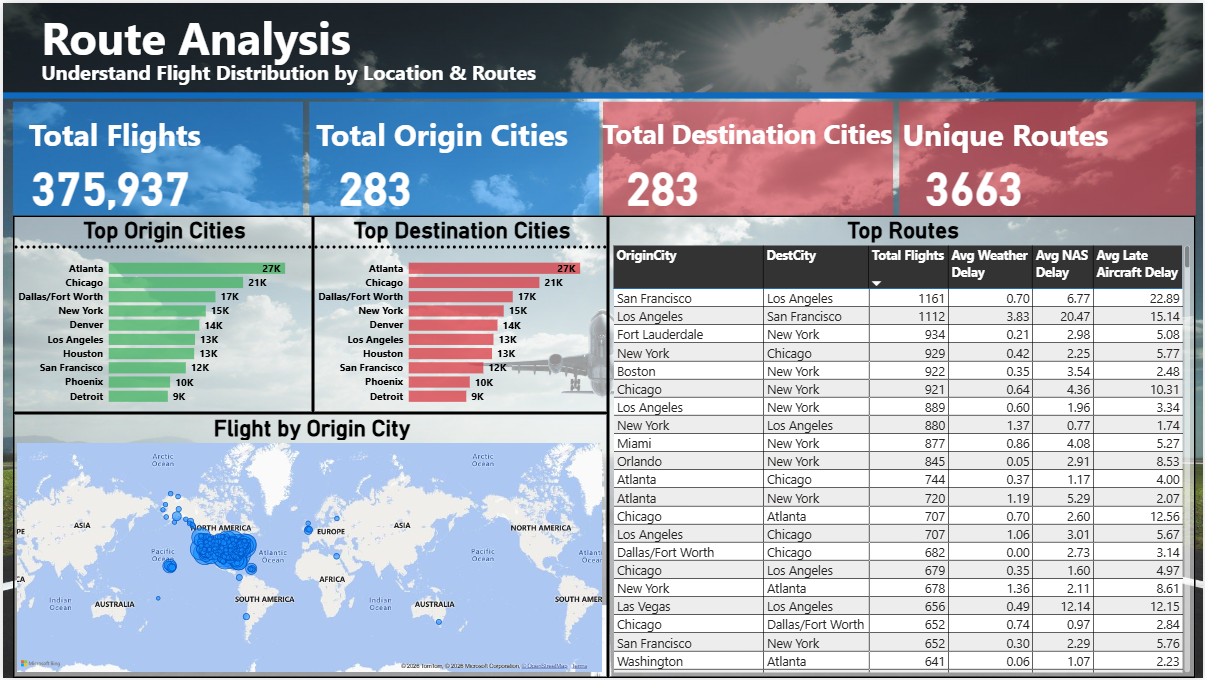

The page's visual inventory and layout, read from the dashboard file:
{"tool":"powerbi","page":{"name":"Route Analysis","canvas":[1920,1080],"ordinal":2},"visuals":[{"type":"textbox","box":[0,0,1920,148],"z":0},{"type":"shape","box":[0,138,1920,20],"z":1000},{"type":"textbox","box":[56.1,0,1136.5,117.6],"z":2000},{"type":"actionButton","box":[16,158,464,182],"z":3000},{"type":"textbox","box":[36,172,292,78],"z":4000},{"type":"card","fields":{"Values":["Sum(airline vw_flight_analysis.TotalFlights)"]},"box":[16,234,312,106],"z":5000},{"type":"actionButton","box":[1433.3,157.4,474.1,182.8],"z":6000},{"type":"actionButton","box":[960,158,464,182],"z":7000},{"type":"actionButton","box":[490,158,464,182],"z":8000},{"type":"textbox","box":[496,172,464,76],"z":9000},{"type":"card","fields":{"Values":["Count(airline vw_flight_analysis.OriginCity)"]},"box":[490,234,212,106],"z":10000},{"type":"textbox","box":[953.7,173.7,485,76],"z":11000},{"type":"textbox","box":[1433.3,171.9,481.4,121.2],"z":12000},{"type":"card","fields":{"Values":["Count(airline vw_flight_analysis.Route)"]},"box":[1438,236,232,104],"z":13000},{"type":"card","fields":{"Values":["Count(airline vw_flight_analysis.DestCity)"]},"box":[950,234,212,106],"z":14000},{"type":"textbox","box":[56.1,83.2,1080.4,65.1],"z":15000},{"type":"clusteredBarChart","title":"Top Origin Cities","fields":{"Y":["Sum(airline vw_flight_analysis.TotalFlights)"],"Category":["airline vw_flight_analysis.OriginCity"]},"box":[16,340,480,316],"z":16000},{"type":"clusteredBarChart","title":"Top Destination Cities","fields":{"Category":["airline vw_flight_analysis.DestCity"],"Y":["Sum(airline vw_flight_analysis.TotalFlights)"]},"box":[496,340,472,316],"z":17000},{"type":"map","title":"Flight by Origin City","fields":{"Size":["Sum(airline vw_flight_analysis.TotalFlights)"],"Category":["airline vw_flight_analysis.OriginCity"]},"box":[16,656,952,424],"z":18000},{"type":"tableEx","title":"Top Routes","fields":{"Values":["airline vw_flight_analysis.OriginCity","airline vw_flight_analysis.DestCity","Sum(airline vw_flight_analysis.TotalFlights)","Avg(airline vw_flight_analysis.AvgWeatherDelay)","Avg(airline vw_flight_analysis.AvgNASDelay)","Avg(airline vw_flight_analysis.AvgLateAircraftDelay)"]},"box":[968,340,940,740],"z":19000}]}

Visuals, with their boxes in screenshot pixels (x1, y1, x2, y2), scaled from the page's 1920x1080 canvas onto the 1205x680 screenshot:
textbox: x1=0, y1=0, x2=1204, y2=93
shape: x1=0, y1=87, x2=1204, y2=99
textbox: x1=35, y1=0, x2=748, y2=74
actionButton: x1=10, y1=99, x2=301, y2=214
textbox: x1=23, y1=108, x2=206, y2=157
card - Sum(airline vw_flight_analysis.TotalFlights): x1=10, y1=147, x2=206, y2=214
actionButton: x1=900, y1=99, x2=1197, y2=214
actionButton: x1=602, y1=99, x2=894, y2=214
actionButton: x1=308, y1=99, x2=599, y2=214
textbox: x1=311, y1=108, x2=602, y2=156
card - Count(airline vw_flight_analysis.OriginCity): x1=308, y1=147, x2=441, y2=214
textbox: x1=599, y1=109, x2=903, y2=157
textbox: x1=900, y1=108, x2=1202, y2=185
card - Count(airline vw_flight_analysis.Route): x1=902, y1=149, x2=1048, y2=214
card - Count(airline vw_flight_analysis.DestCity): x1=596, y1=147, x2=729, y2=214
textbox: x1=35, y1=52, x2=713, y2=93
"Top Origin Cities" clusteredBarChart: x1=10, y1=214, x2=311, y2=413
"Top Destination Cities" clusteredBarChart: x1=311, y1=214, x2=608, y2=413
"Flight by Origin City" map: x1=10, y1=413, x2=608, y2=679
"Top Routes" tableEx: x1=608, y1=214, x2=1197, y2=679
